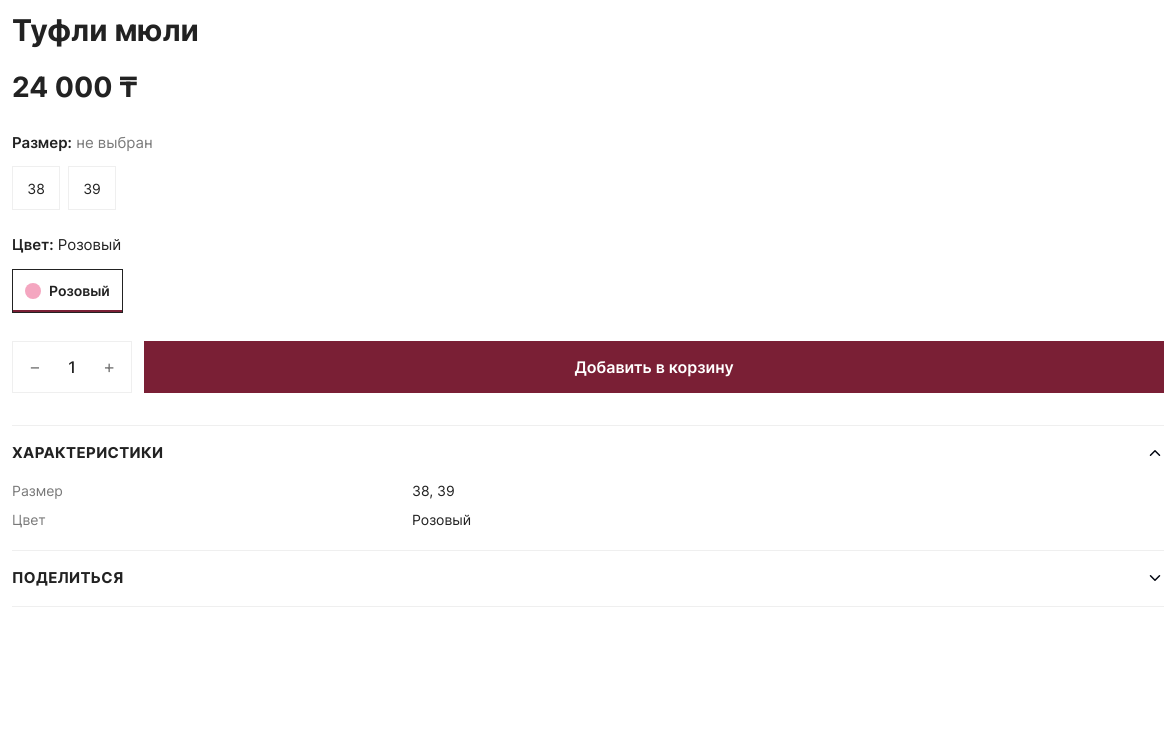
Test: Страница товара — выбор размера › пишет «Добавлено» только после ответа сервера
Click the radio button labelled "38". click: (36, 188)
box: 12,166 -> 60,210
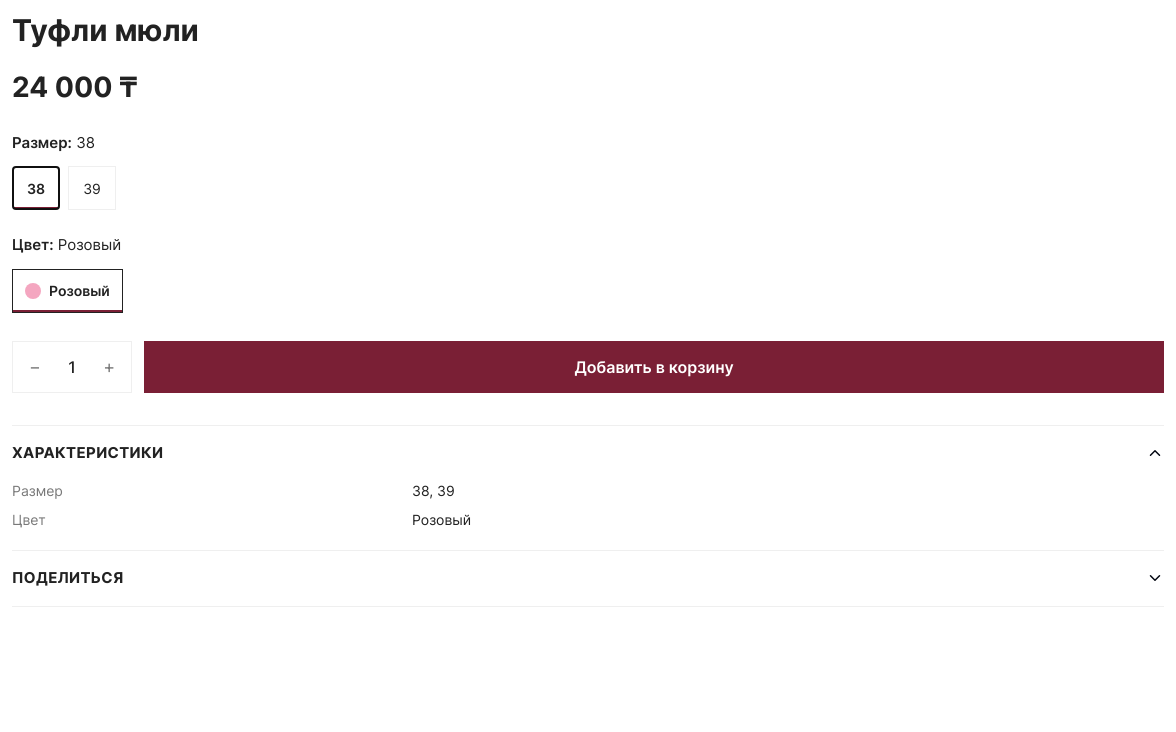
Click the button "Добавить в корзину". click: (654, 366)
box: 144,340 -> 1164,392
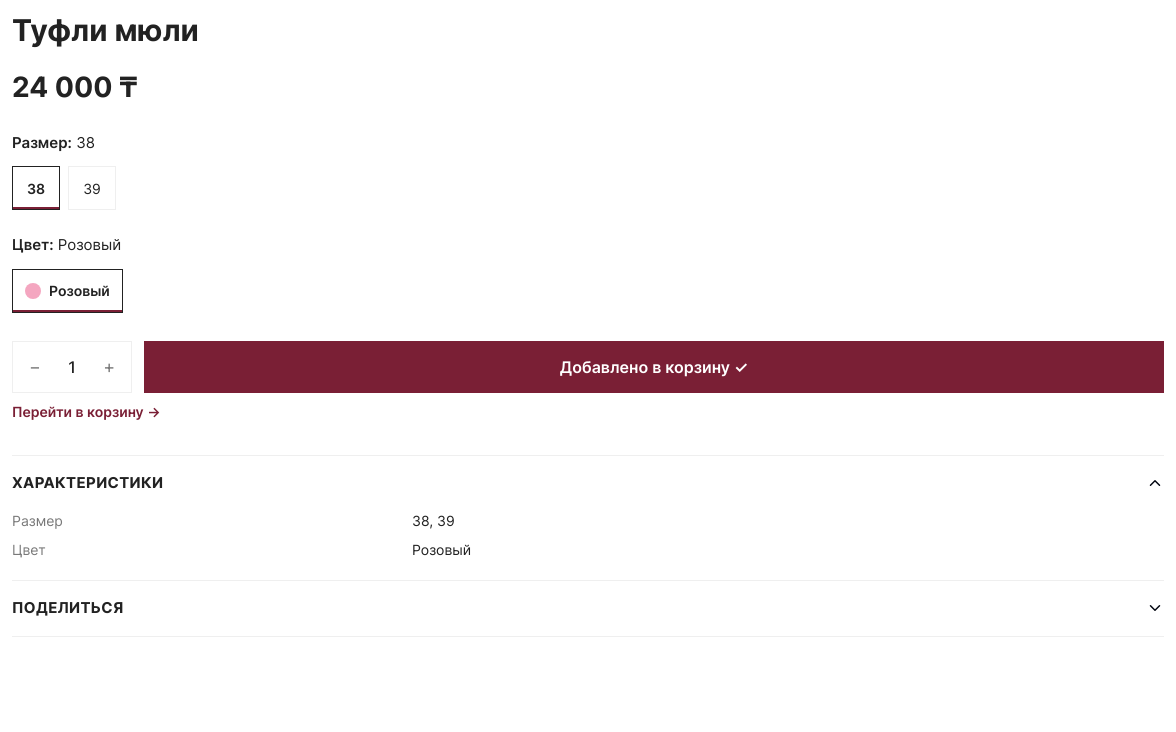
Now the button "Добавлено в корзину ✓" is shown, box 144,340 -> 1164,392
